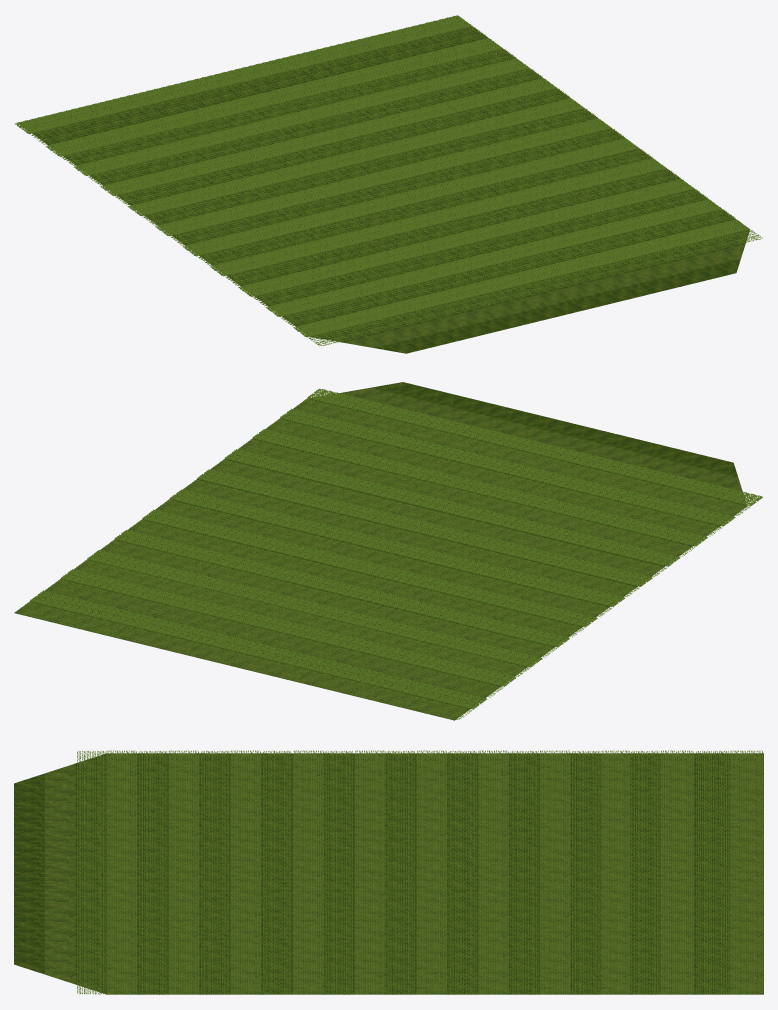
Rendered from StadiumGrass01.glb.
3 views of the same model, one above another, from view 1: azimuth 30°, elevation 25°; view 2: azimuth 150°, elevation 25°; view 3: azimuth 270°, elevation 25° (orthographic). The views are drawn at different scales.
Visible parts, largest first — view 1: Grass01; view 2: Grass01; view 3: Grass01.
Part boxes in pixels (x1,y1,x2,y2): Grass01: [15, 15, 762, 353]; Grass01: [14, 382, 762, 720]; Grass01: [14, 750, 763, 994].
Bounding box in the file's own units: 80.71 × 0.4972 × 105.
2 materials, 2 textured.
